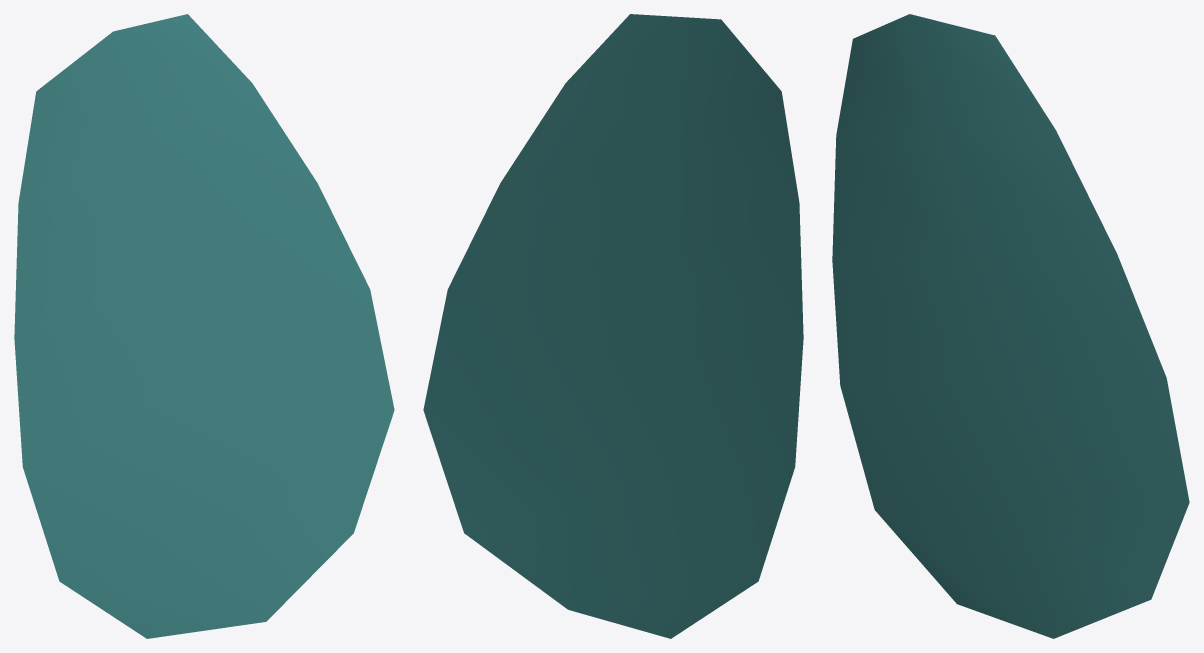
The model's file is budgie_feather_flight_tertiary_020.obj.
3 renders of one model, left to right at view 1: azimuth 30°, elevation 25°; view 2: azimuth 150°, elevation 25°; view 3: azimuth 330°, elevation 25°, orthographic. The views are drawn at different scales.
Visible parts, largest first — view 1: feather_flight_tertiary_020; view 2: feather_flight_tertiary_020; view 3: feather_flight_tertiary_020.
Part boxes in pixels (<box>): feather_flight_tertiary_020: <box>14,14,394,638</box>; feather_flight_tertiary_020: <box>423,14,803,638</box>; feather_flight_tertiary_020: <box>832,14,1189,638</box>.
Size of the model in its own units: 0.00858 by 0.0135 by 0.000322.
